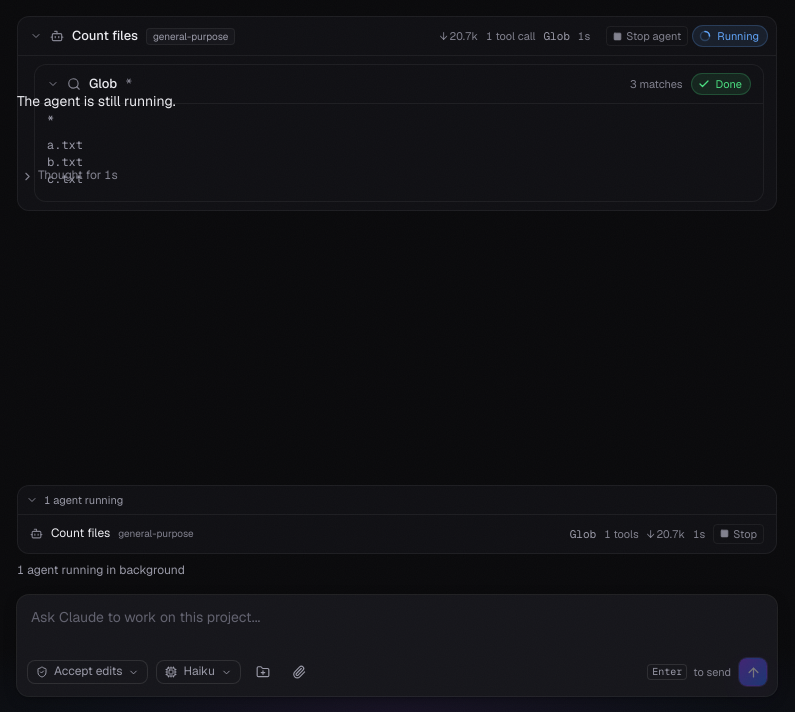
WorkingRow › pins running agents in a dock above the composer with a Stop button
Expected: the text with test id "agent-dock-title" reads "1 agent running", left=44, top=492, right=123, bottom=507
Click the button with aria-label "Stop agent": (739, 534) left=713, top=524, right=764, bottom=544
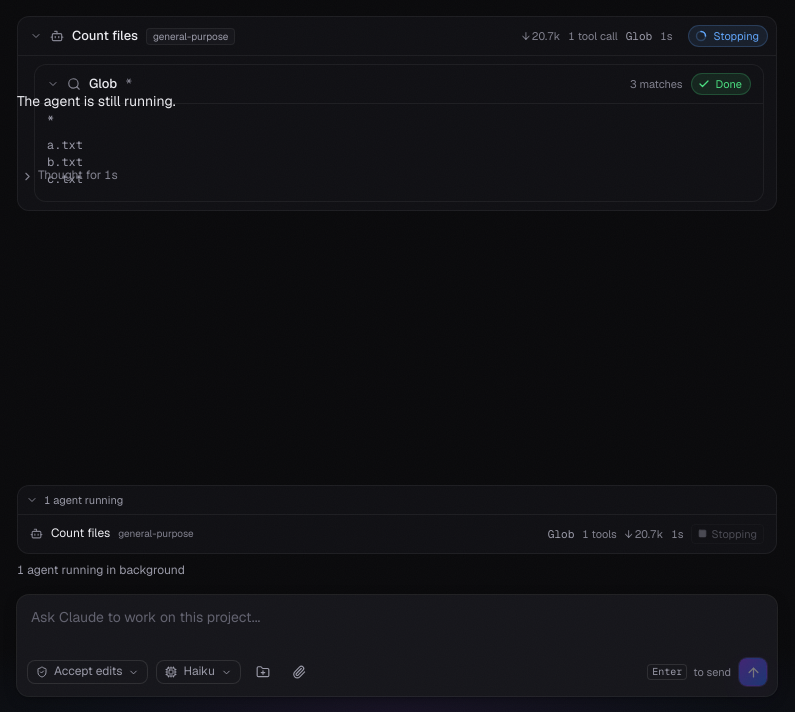
Click the button "1 agent running": (103, 500) left=18, top=486, right=776, bottom=514
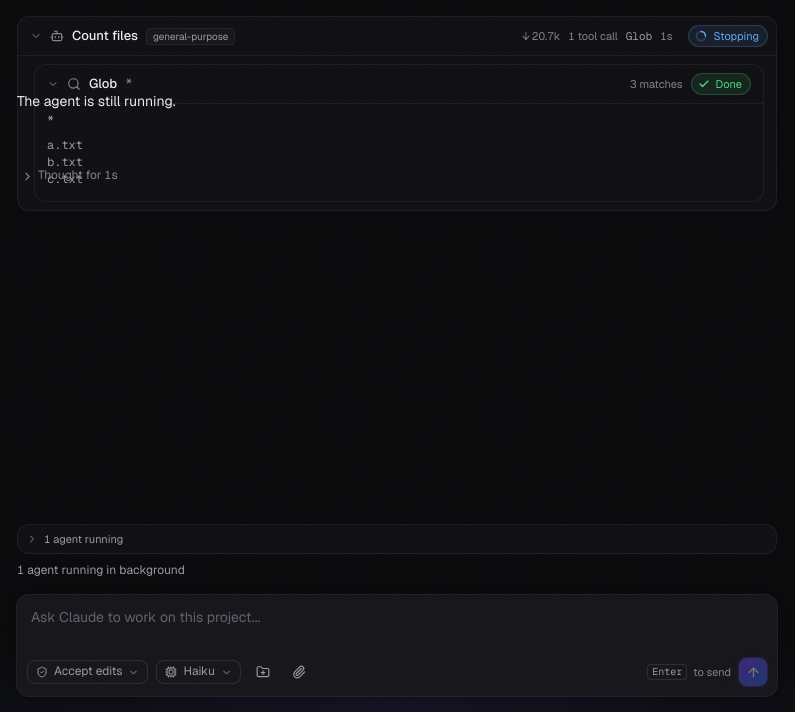
Result: the list item with test id "agent-dock-row" is gone
